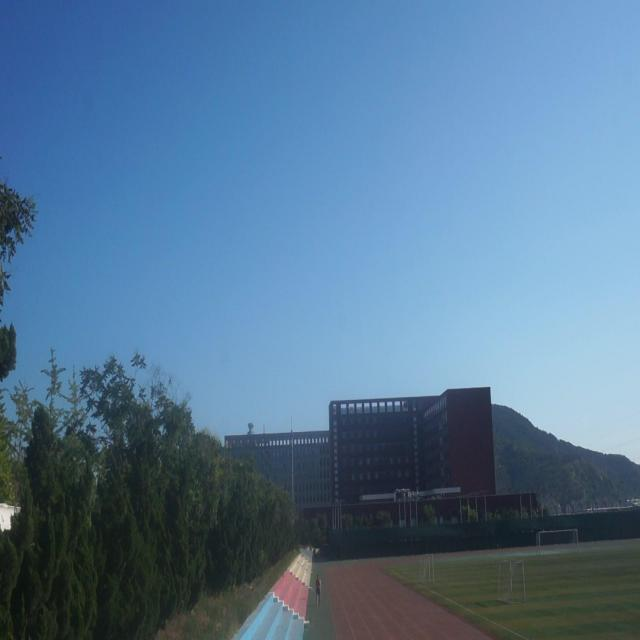UAV: (349, 406, 353, 411)
